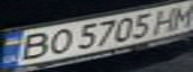0: (115, 15, 139, 43)
5: (130, 10, 160, 39), (75, 20, 100, 51)
7: (93, 18, 118, 47)
B: (9, 29, 54, 62)
H: (148, 6, 187, 34)
M: (166, 1, 193, 30)
O: (39, 26, 75, 56)
